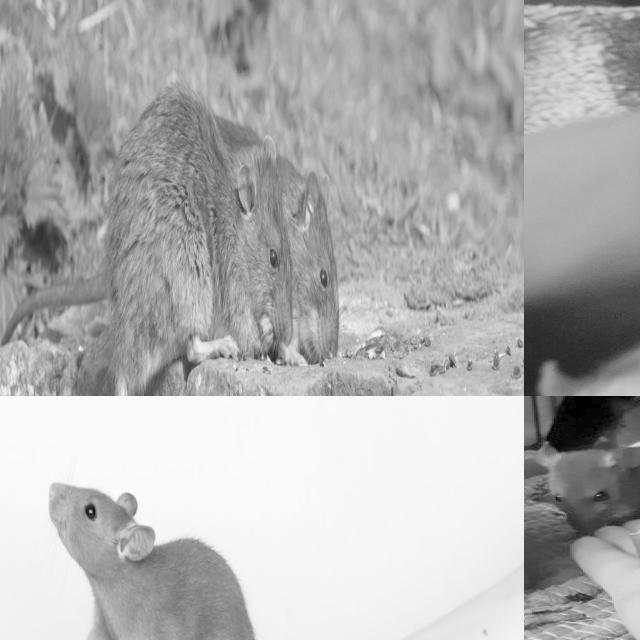rat: (109, 89, 292, 352), (23, 465, 282, 640), (524, 209, 640, 396), (531, 430, 640, 532), (612, 400, 640, 450)
